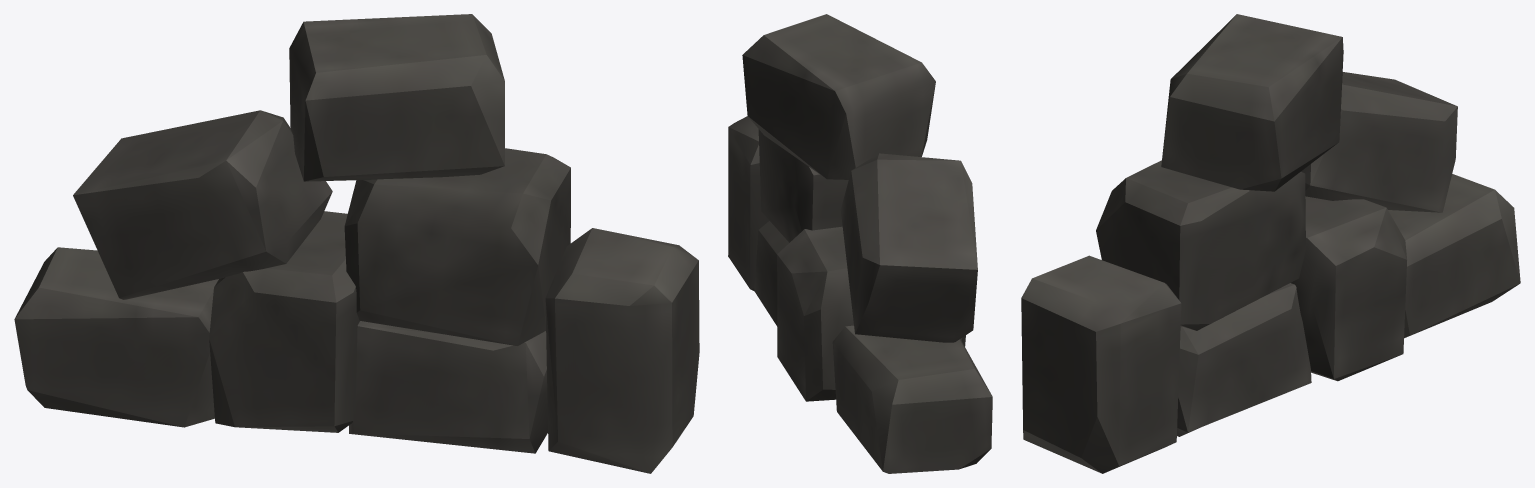
Rendered from Brickwall1.fbx.
The picture shows the model from 3 angles, left to right: view 1: azimuth 30°, elevation 25°; view 2: azimuth 150°, elevation 25°; view 3: azimuth 270°, elevation 25°; orthographic projection. The views are drawn at different scales.
Visible parts, largest first — view 1: Brickwall1; view 2: Brickwall1; view 3: Brickwall1.
Boxes of the visible parts, x1,y1,x2,y2 form: Brickwall1: (14, 14, 699, 473); Brickwall1: (728, 14, 992, 473); Brickwall1: (1021, 14, 1520, 473).
Bounding box in the file's own units: 163 × 116 × 157.
1 material, 1 textured.
